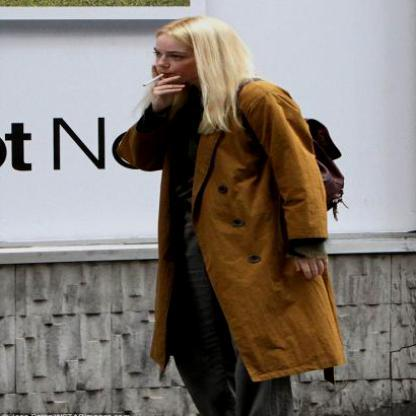cigarette: (139, 74, 168, 88)
person: (138, 16, 346, 415)
